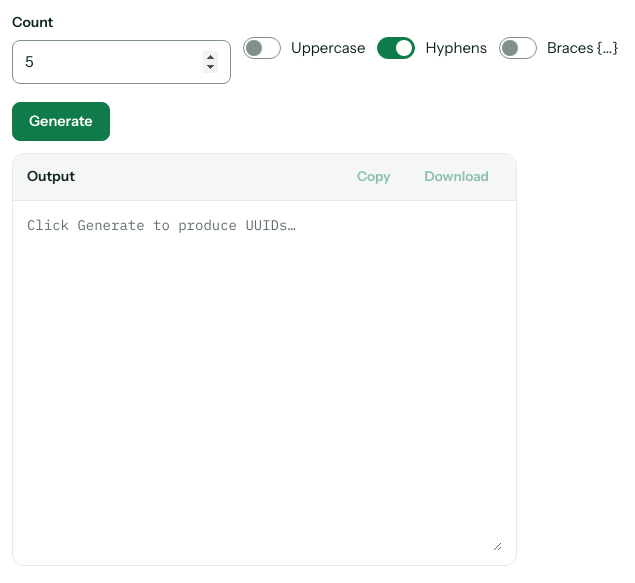
Test: UuidGenerator › generates the count specified (default 5)
The image size is (635, 583).
Click the button "Generate". click: point(61, 122)
box: 12,102 -> 110,141
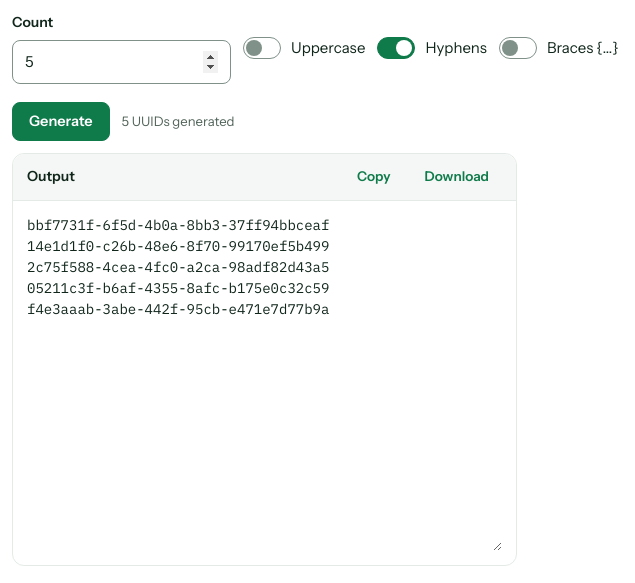
expect the text "5 UUIDs generated" is shown: met, box 122,111 -> 235,132
